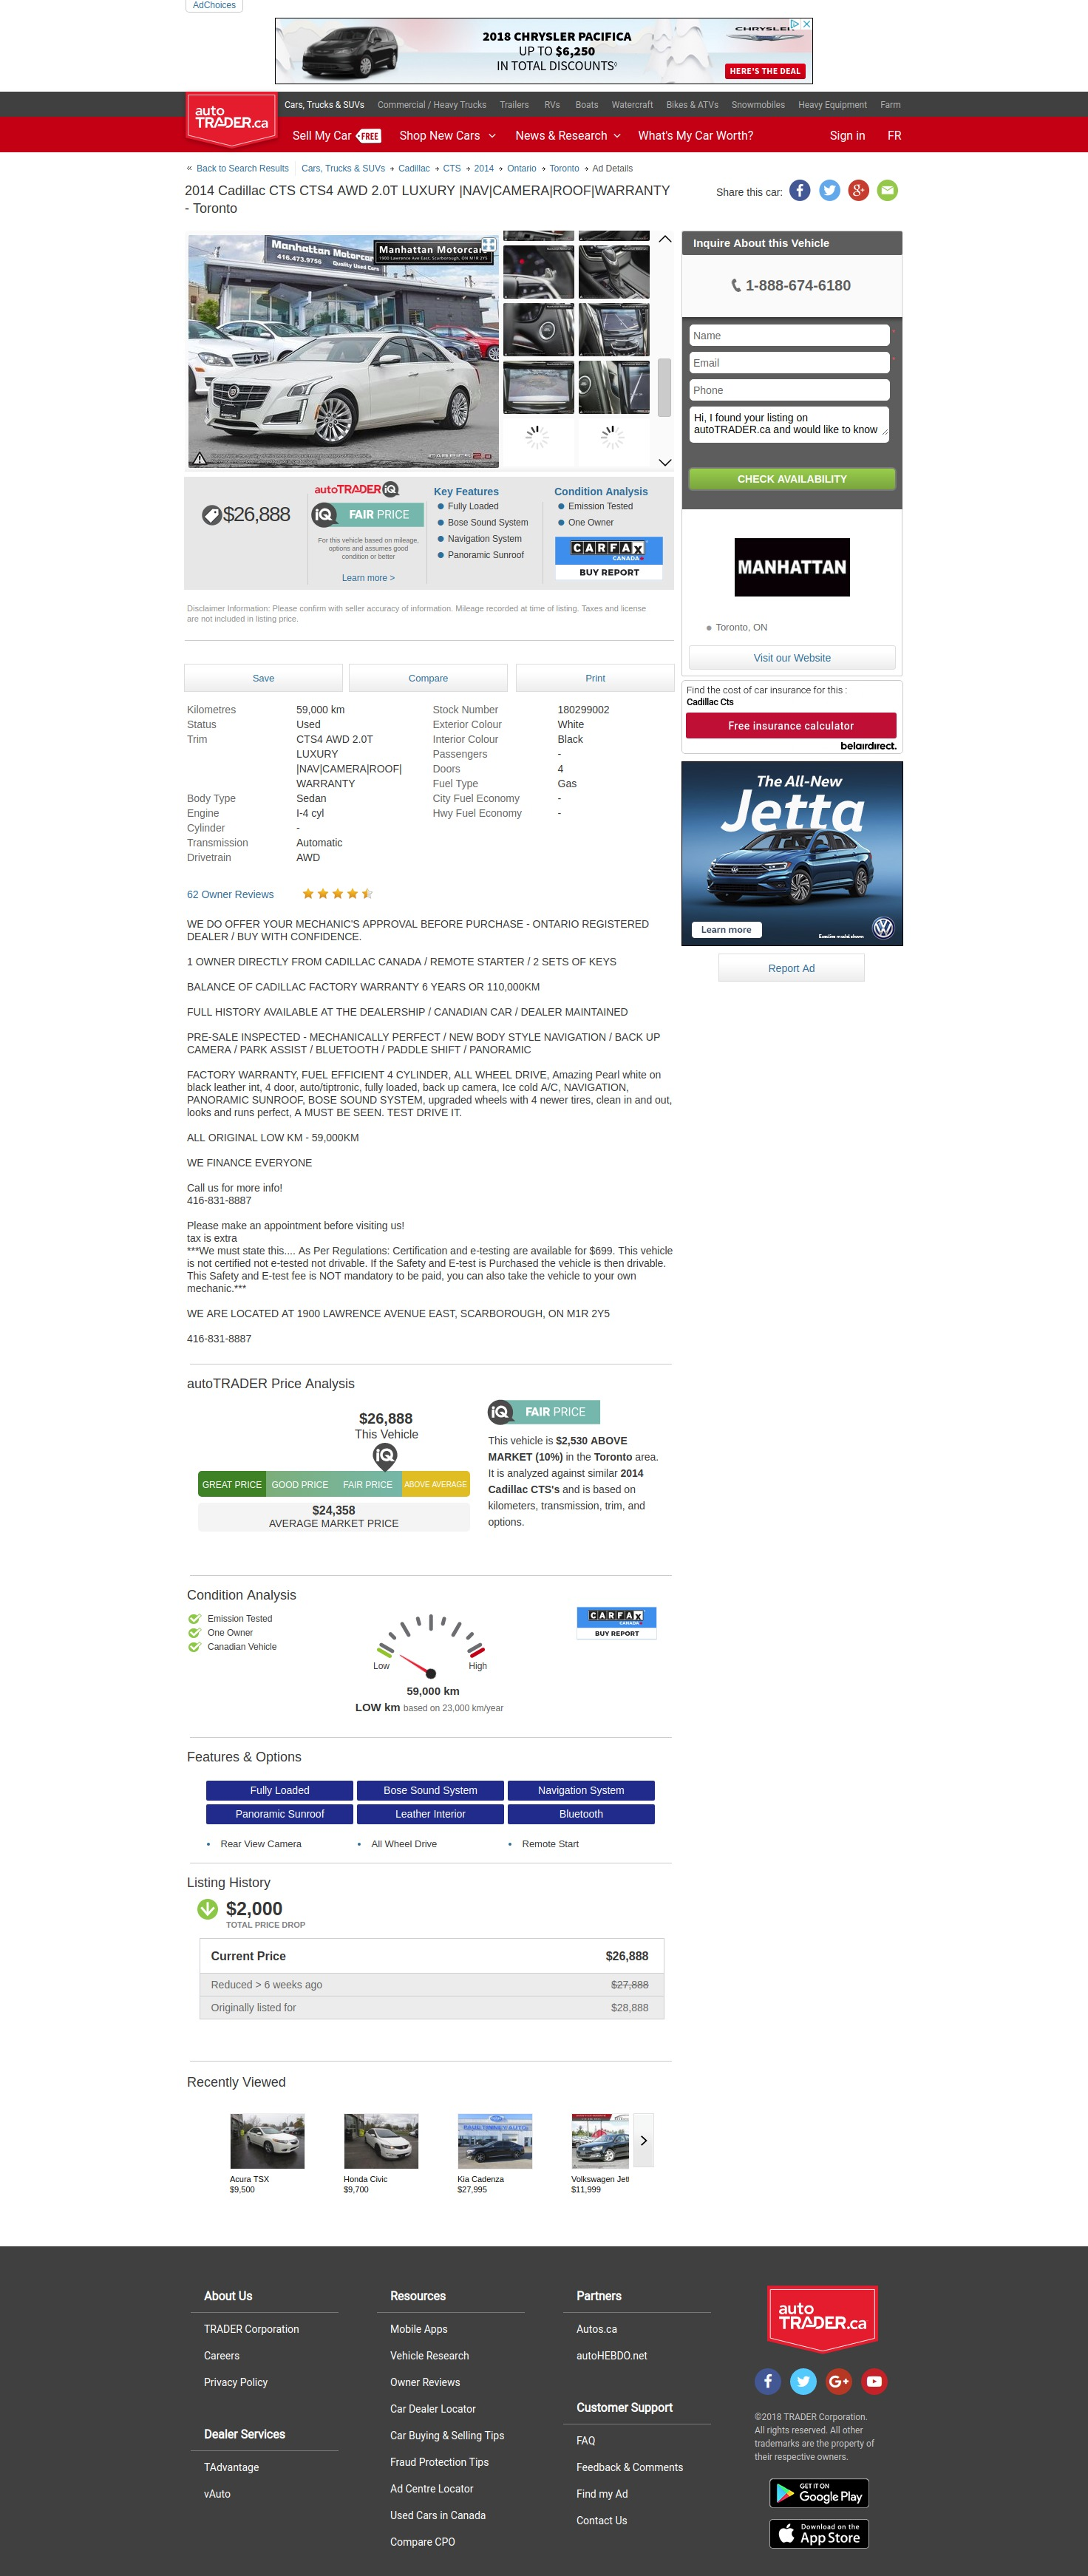car: (657, 457, 674, 470)
